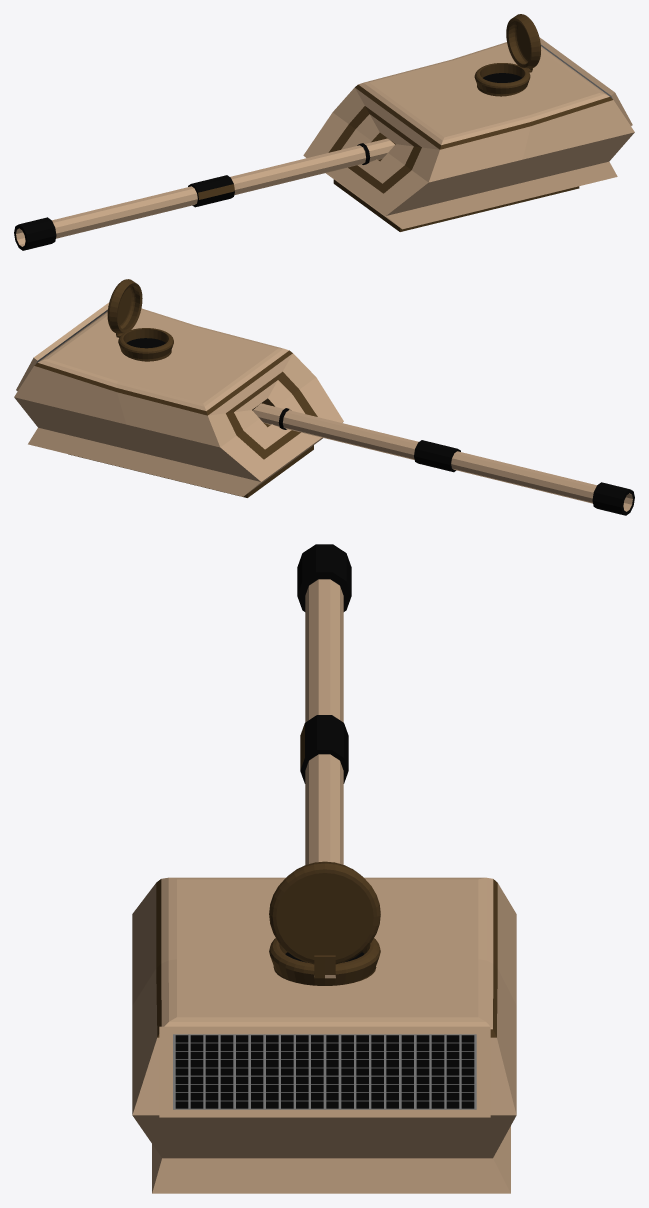
File: TankTopside.fbx
3 views of the same model, one above another, from view 1: azimuth 30°, elevation 25°; view 2: azimuth 150°, elevation 25°; view 3: azimuth 270°, elevation 25° (orthographic). The views are drawn at different scales.
Parts seen in each view (by area): view 1: TankBody.001; view 2: TankBody.001; view 3: TankBody.001.
Part boxes in pixels (x1,y1,x2,y2): TankBody.001: (14, 14, 634, 250); TankBody.001: (14, 279, 634, 515); TankBody.001: (132, 544, 516, 1193).
Bounding box in the file's own units: 682 × 176 × 199.
